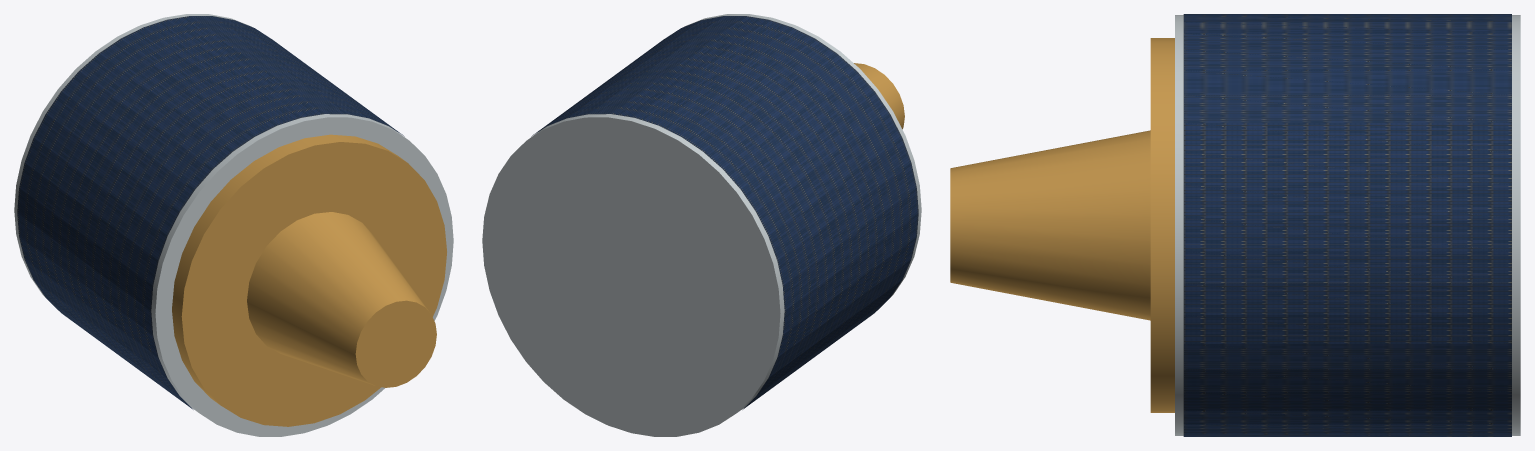
Rendered from ref-cs-10516.glb.
3 views of the same model, side by side, from view 1: azimuth 30°, elevation 25°; view 2: azimuth 150°, elevation 25°; view 3: azimuth 270°, elevation 25° (orthographic). The views are drawn at different scales.
Parts seen in each view (by area): view 1: Body-mounted solar cells, Despun equipment deck, Axial antenna horn, Solar drum core; view 2: Solar drum core, Body-mounted solar cells, Axial antenna horn; view 3: Body-mounted solar cells, Axial antenna horn, Despun equipment deck, Solar drum core.
Part boxes in pixels (x1,y1,x2,y2): Body-mounted solar cells: [17, 16, 404, 409]; Despun equipment deck: [172, 134, 446, 426]; Axial antenna horn: [247, 212, 436, 387]; Solar drum core: [14, 14, 453, 436]; Solar drum core: [482, 14, 921, 436]; Body-mounted solar cells: [531, 16, 918, 409]; Axial antenna horn: [854, 63, 904, 129]; Body-mounted solar cells: [1183, 14, 1511, 436]; Axial antenna horn: [950, 130, 1150, 320]; Despun equipment deck: [1150, 38, 1174, 412]; Solar drum core: [1175, 15, 1520, 435].
Bounding box in the file's own units: 2.21 × 2.21 × 2.98.
3 materials, 1 textured.
